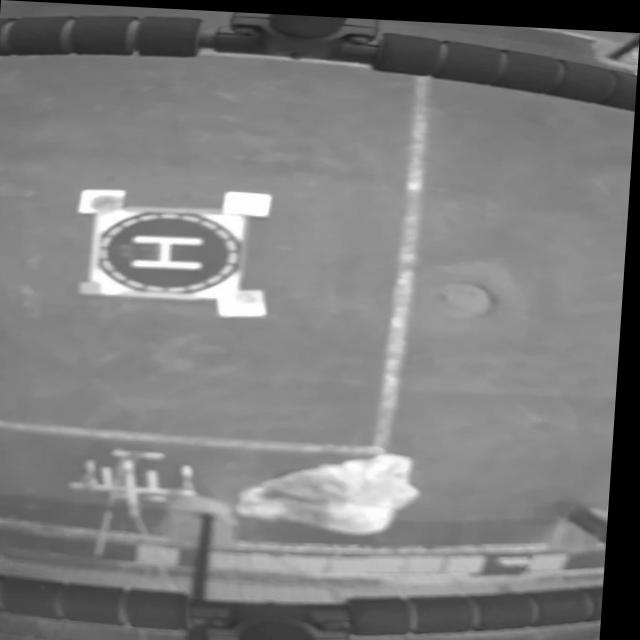Helipad: (133, 233, 206, 269)
